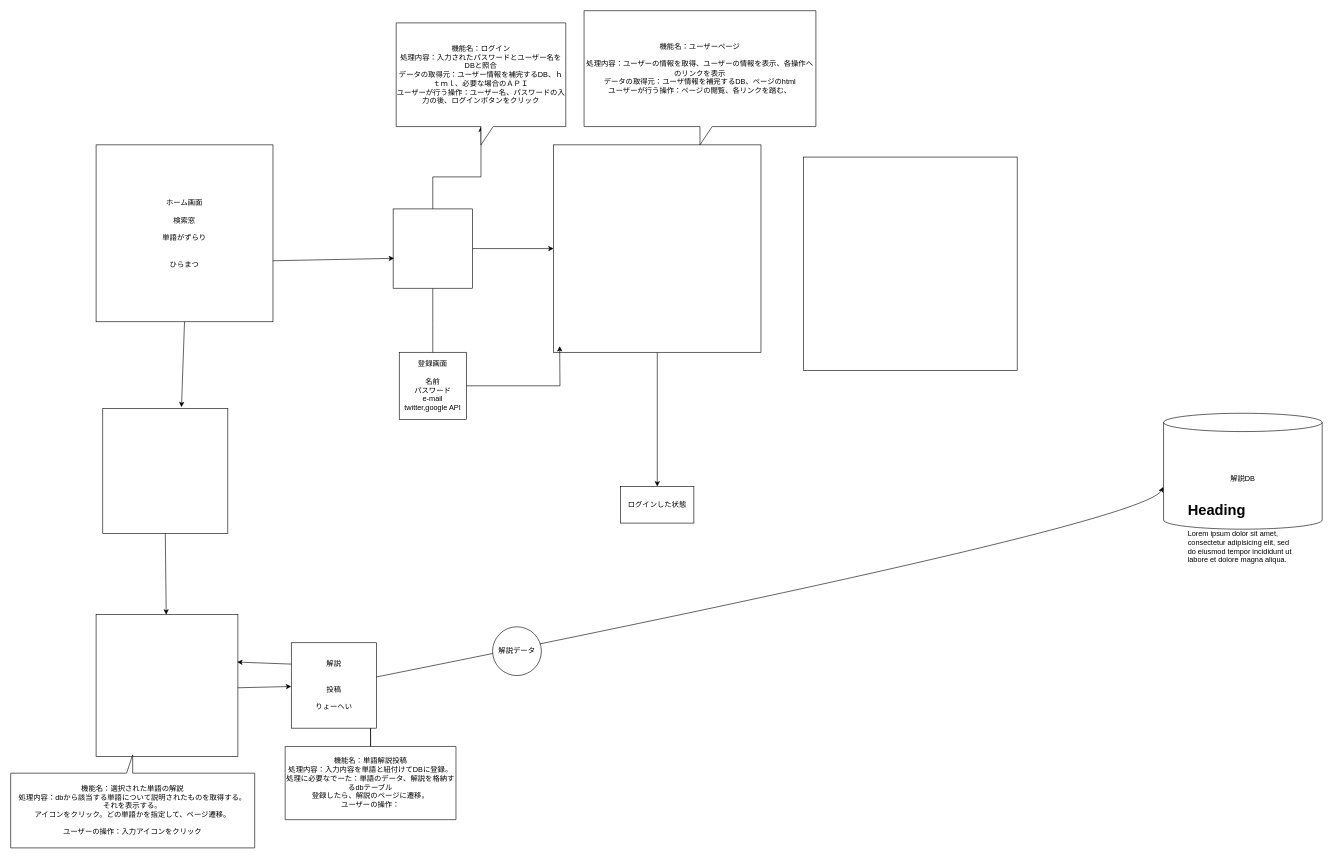
This 1333x859 diagram has some shape labels left out. Here are the shapes that lost their labels. From the top down, the centre of each, then its label:
(432,248): ログイン パスワード ユーザー名 ひろみ
(657,248): ユーザーページ ユーザー名 過去の投稿一覧 ログアウト s
(910,263): 機能名 処理内容 処理に必要なデータ データの取得元 ユーザーが行い操作
(165,470): 単語 解説 解説 解説 ひらまつ
(166,685): 単語の解説 書き込むアイコン りょーへい
